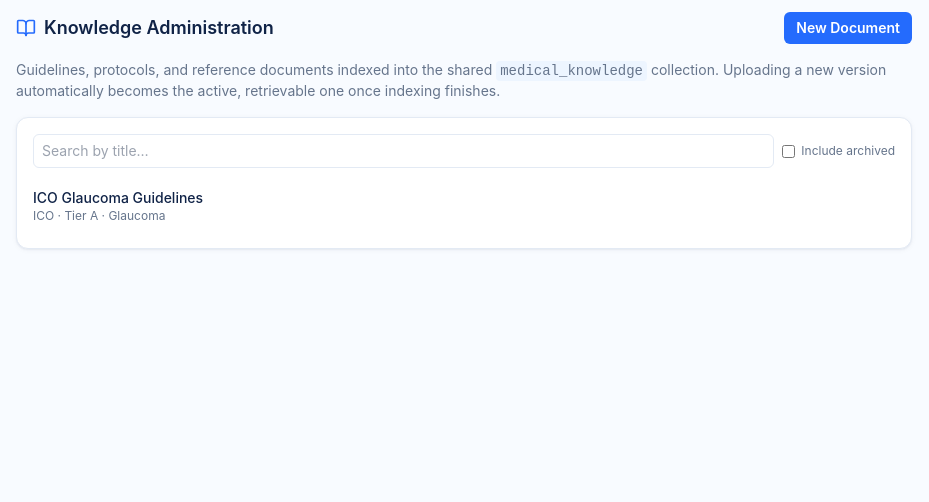
Scenario: Knowledge Administration page › shows a selected document's versions with status badges
Click the text "ICO Glaucoma Guidelines" at {"x": 118, "y": 198}, box [33, 188, 203, 208]
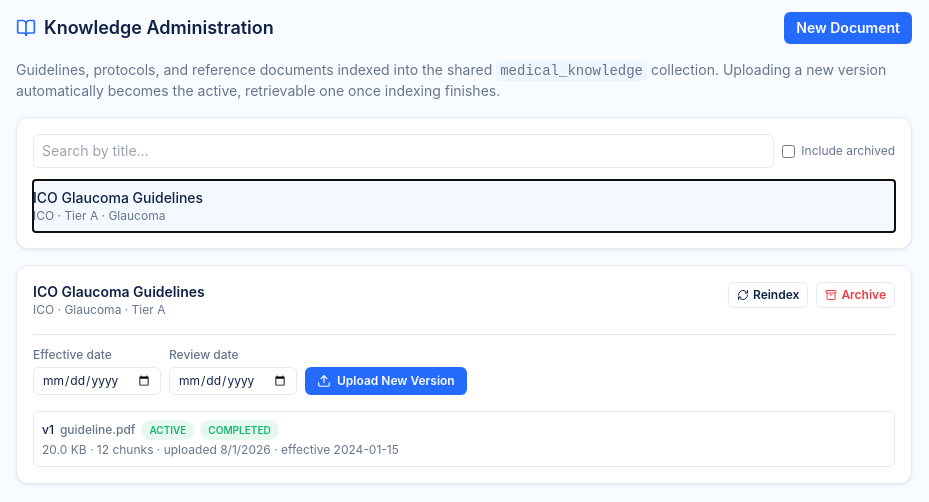
Result: the text "guideline.pdf" is shown at [60, 422, 135, 438]
Result: the text "ACTIVE" is shown at [141, 420, 194, 440]
Result: the text "COMPLETED" is shown at [200, 420, 279, 440]
